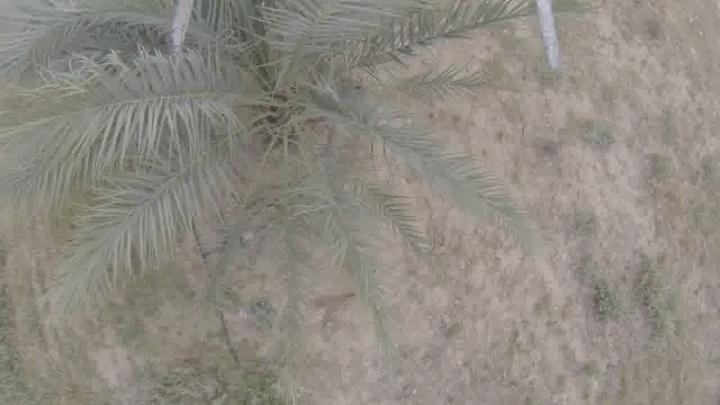Date-Palm-Crown: (75, 0, 404, 222)
